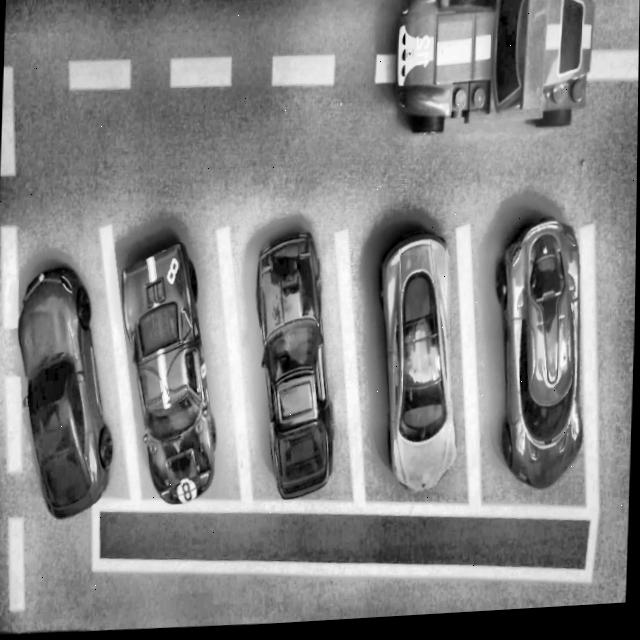car: (383, 0, 602, 157), (115, 239, 224, 509), (489, 221, 591, 497), (12, 260, 119, 522), (249, 231, 342, 504), (374, 235, 464, 498)
